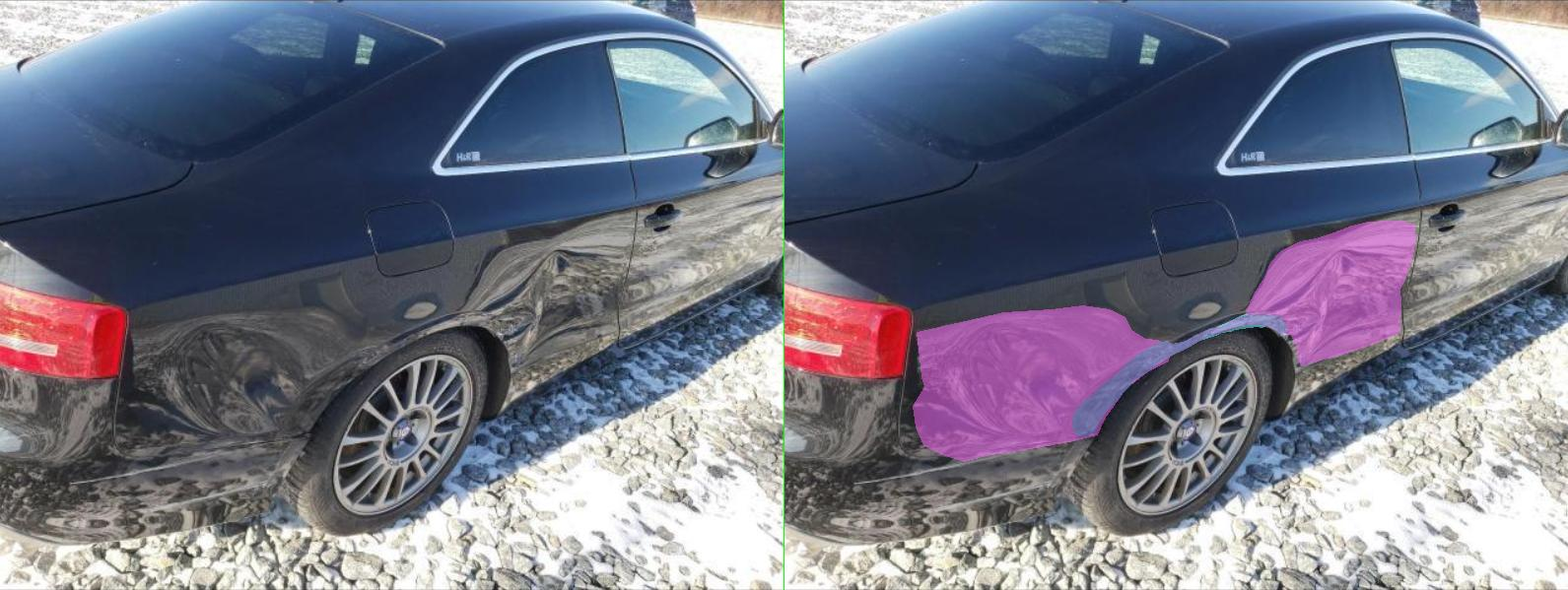Dent: (256, 305, 773, 461), (923, 221, 1262, 365)
Flaking: (807, 313, 962, 342)
Scratch: (576, 314, 1006, 435)
